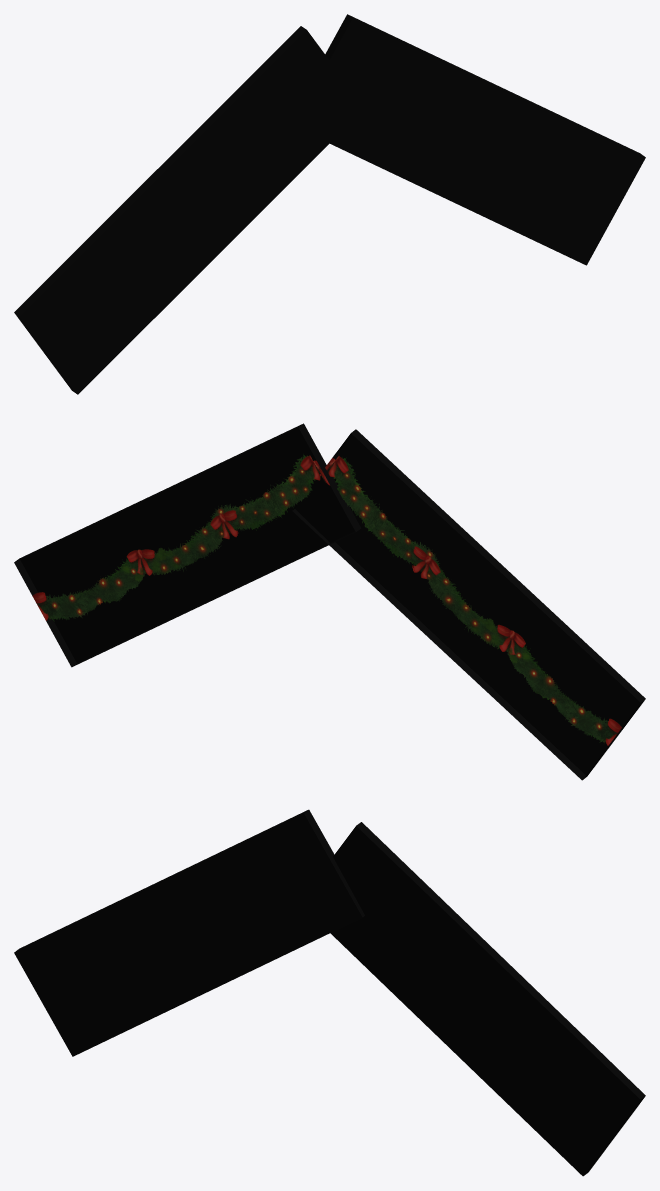
The model's file is Coming soon.fbx.
3 renders of one model, top to bottom at view 1: azimuth 30°, elevation 25°; view 2: azimuth 150°, elevation 25°; view 3: azimuth 330°, elevation 25°, orthographic. The views are drawn at different scales.
Visible parts, largest first — view 1: Furniture_PfBWDTYuSUySJjchqt1RLg; view 2: Furniture_PfBWDTYuSUySJjchqt1RLg; view 3: Furniture_PfBWDTYuSUySJjchqt1RLg.
Boxes of the visible parts, left/top/right/bottom form: Furniture_PfBWDTYuSUySJjchqt1RLg: left=14, top=14, right=645, bottom=394; Furniture_PfBWDTYuSUySJjchqt1RLg: left=14, top=423, right=645, bottom=780; Furniture_PfBWDTYuSUySJjchqt1RLg: left=14, top=809, right=645, bottom=1176.
Bounding box in the file's own units: 394 × 182 × 16.52.
2 materials, 2 textured.
